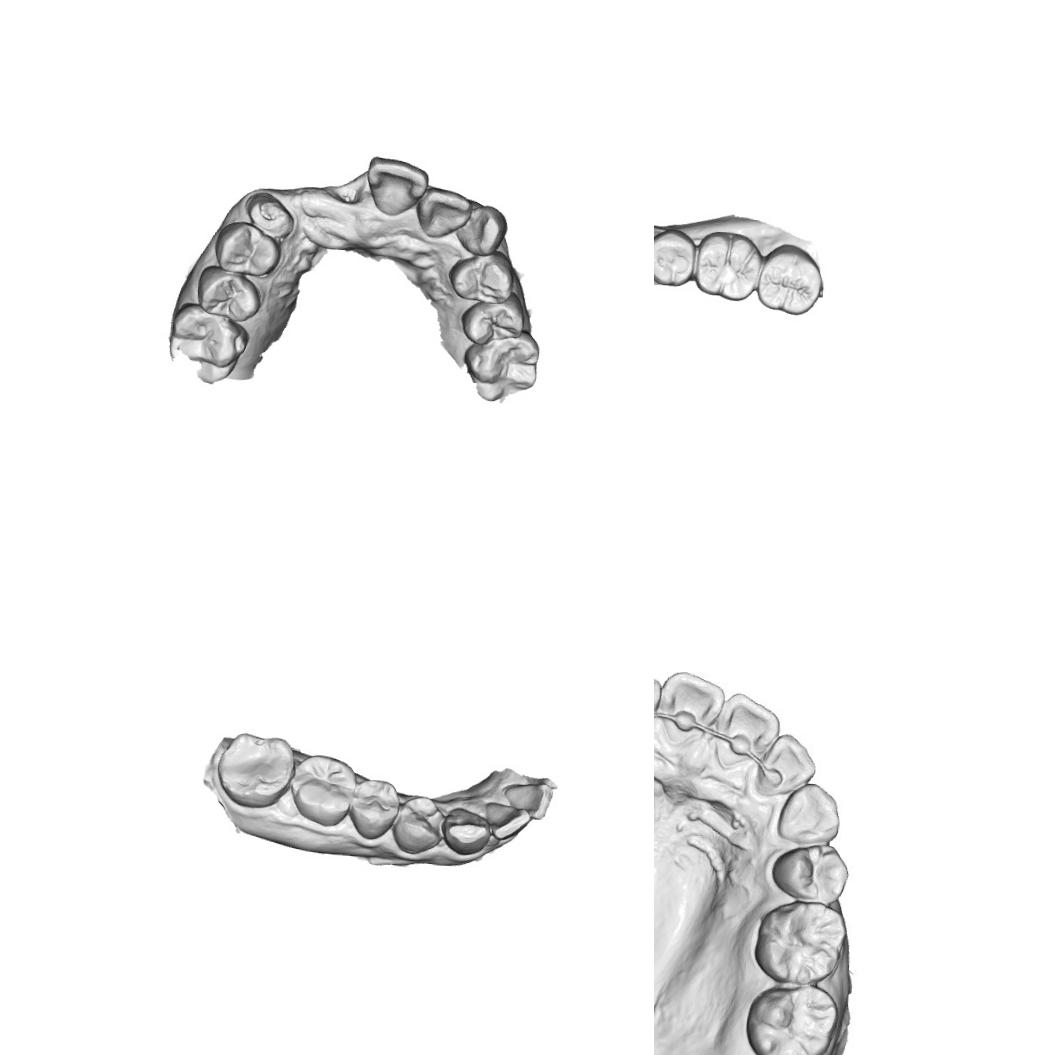canine: (774, 780, 839, 843), (452, 202, 508, 258), (240, 188, 298, 240), (438, 804, 492, 857)
incisor: (658, 668, 723, 737), (713, 692, 776, 760), (365, 153, 430, 218), (413, 184, 474, 240), (760, 734, 811, 796), (500, 778, 556, 822), (482, 800, 532, 843)
molar: (757, 902, 845, 989), (744, 980, 837, 1055), (214, 729, 298, 810), (461, 327, 541, 404), (166, 300, 252, 370), (286, 752, 358, 828), (691, 228, 763, 303), (755, 241, 824, 317)
premolar: (770, 839, 846, 903), (193, 262, 264, 324), (212, 219, 284, 279), (445, 247, 516, 305), (458, 288, 525, 348), (347, 776, 402, 842), (390, 792, 445, 857), (654, 225, 696, 287)
